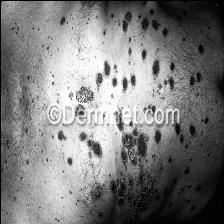Non-Cancerous Skin Condition: (53, 0, 207, 100), (51, 124, 213, 196)
